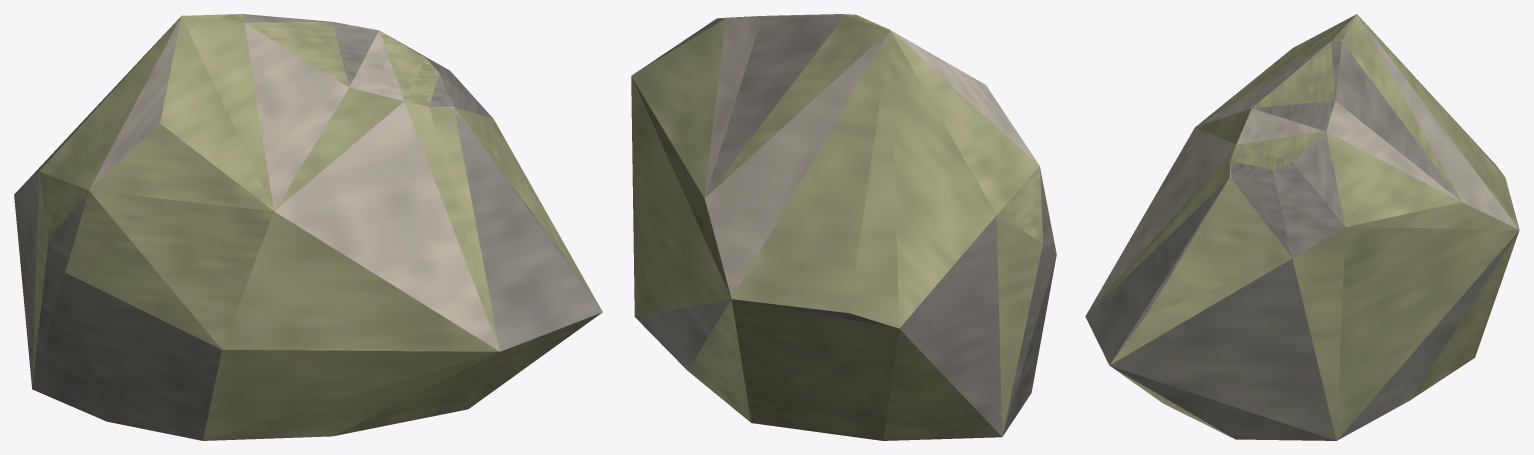
Rendered from rock_medium_01.fbx.
3 renders of one model, left to right at view 1: azimuth 30°, elevation 25°; view 2: azimuth 150°, elevation 25°; view 3: azimuth 270°, elevation 25°, orthographic. The views are drawn at different scales.
Visible parts, largest first — view 1: rock_medium_01; view 2: rock_medium_01; view 3: rock_medium_01.
Boxes of the visible parts, left/top/right/bottom form: rock_medium_01: left=14, top=14, right=602, bottom=440; rock_medium_01: left=631, top=14, right=1056, bottom=440; rock_medium_01: left=1085, top=14, right=1519, bottom=440.
Size of the model in its own units: 1.26 by 1.01 by 1.27.
